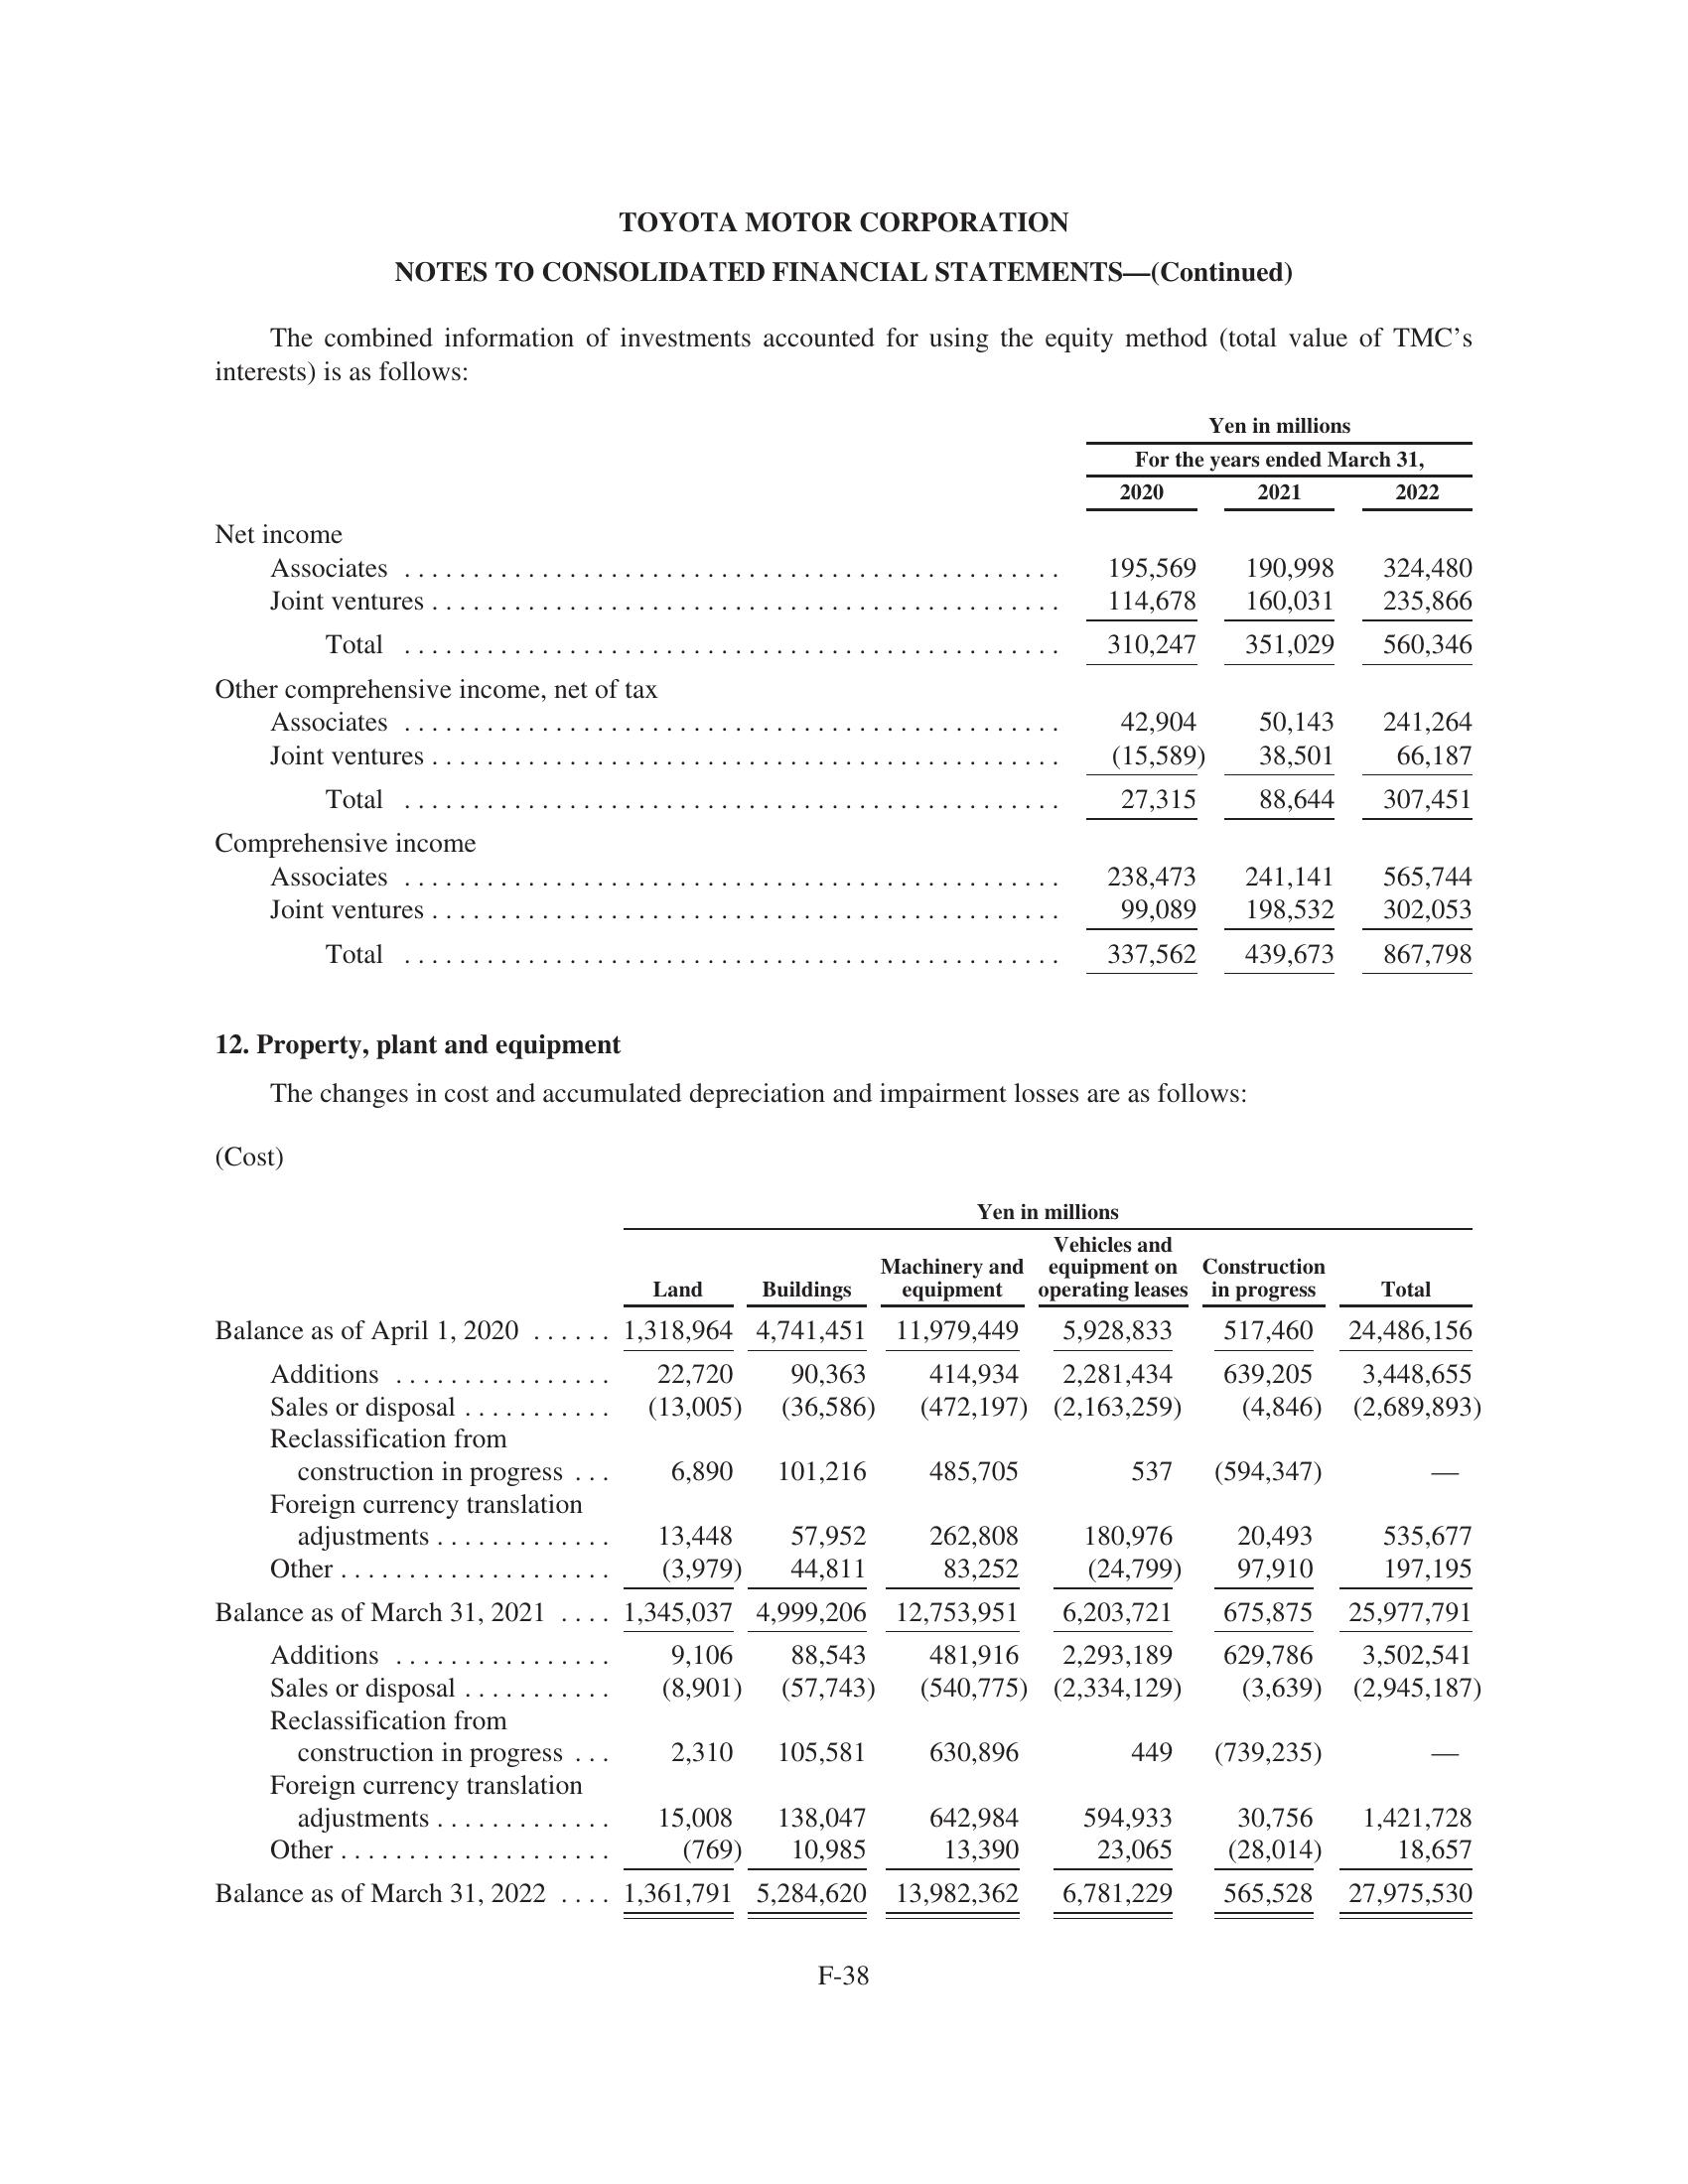Footer: (0, 1946, 1688, 2184)
Header: (0, 0, 1688, 179)
Table: (142, 1170, 1509, 1916), (151, 401, 1491, 987)
